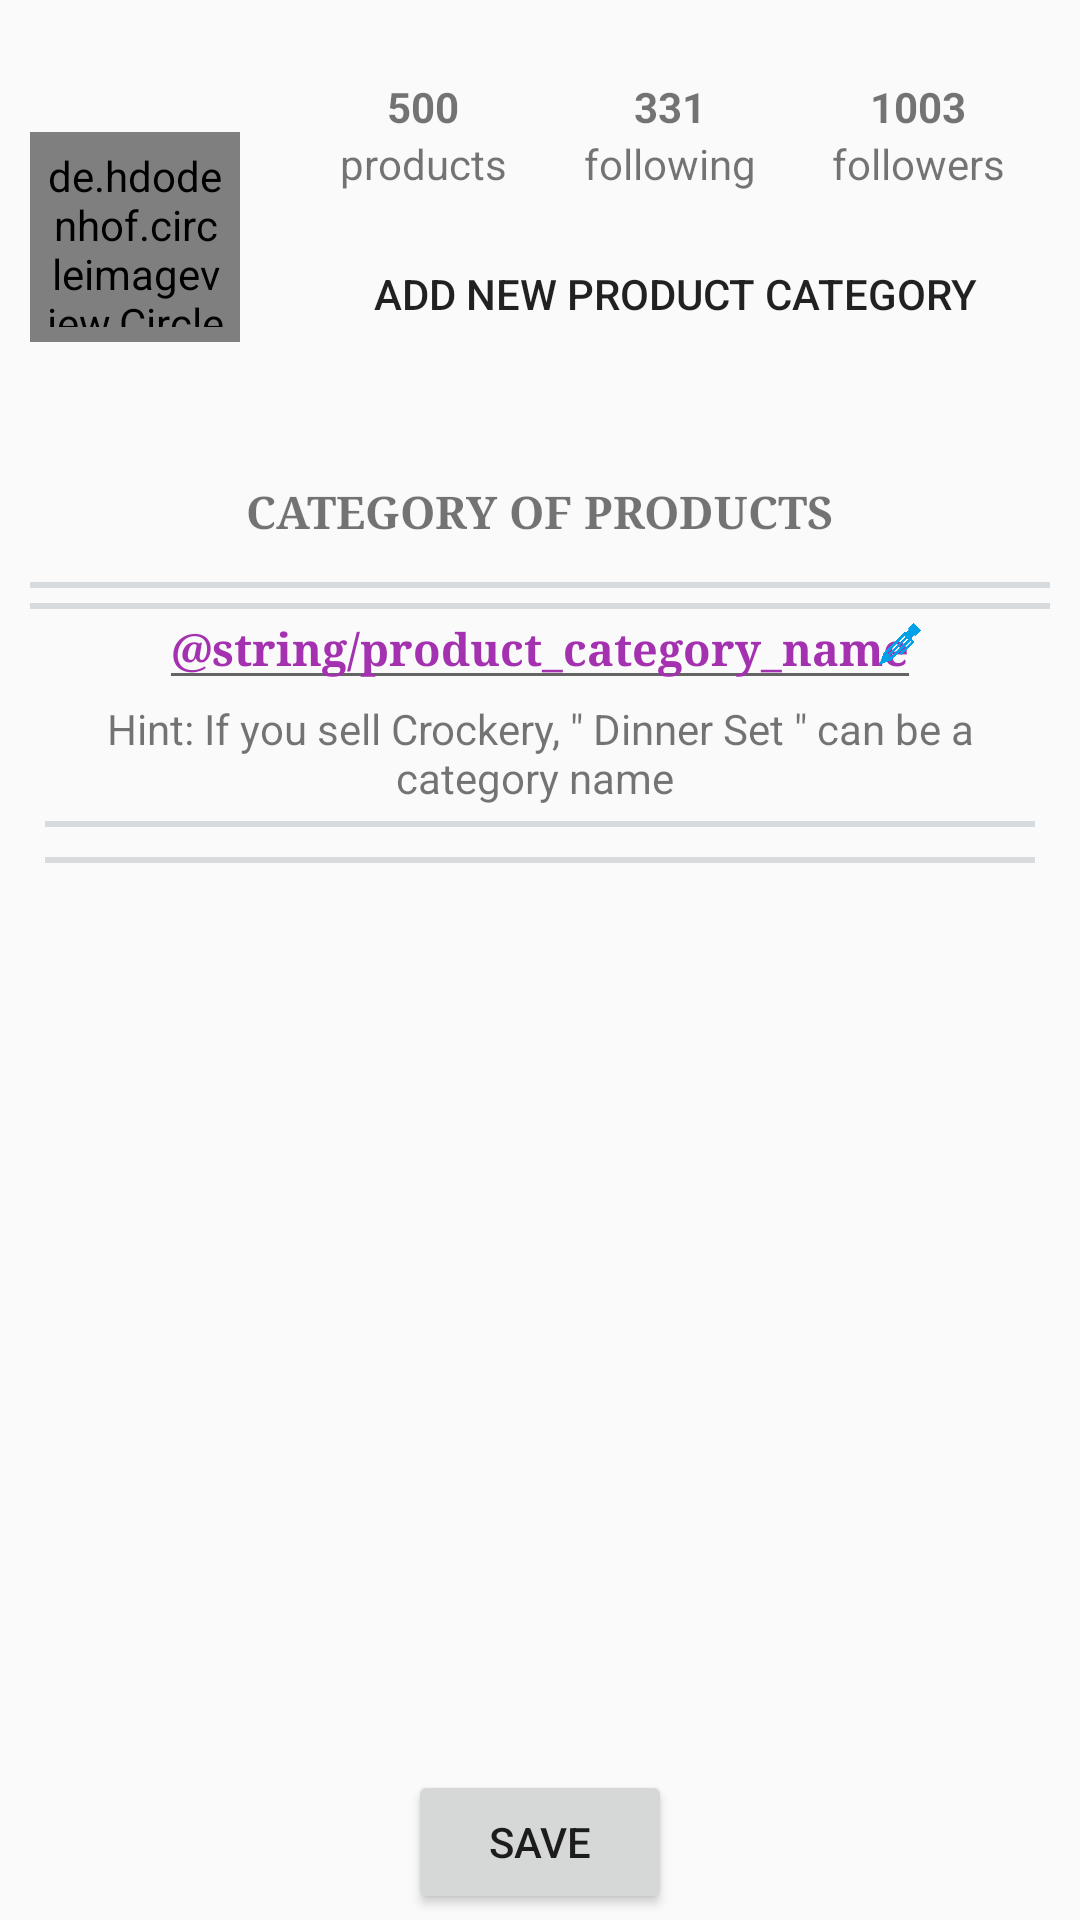

Icons on this 1080*1920 Android screen, each with its box as rect(x1, y1, x2, y2):
edit text: rect(870, 623, 921, 674)
